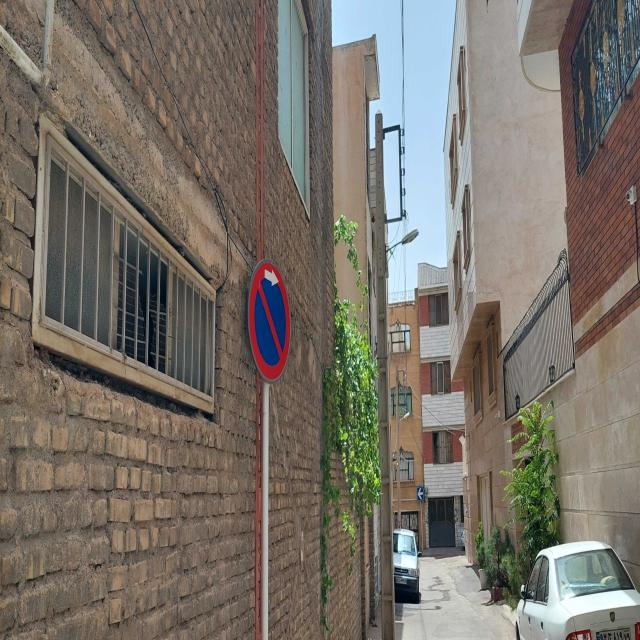forb_stopping: (247, 258, 291, 385)
